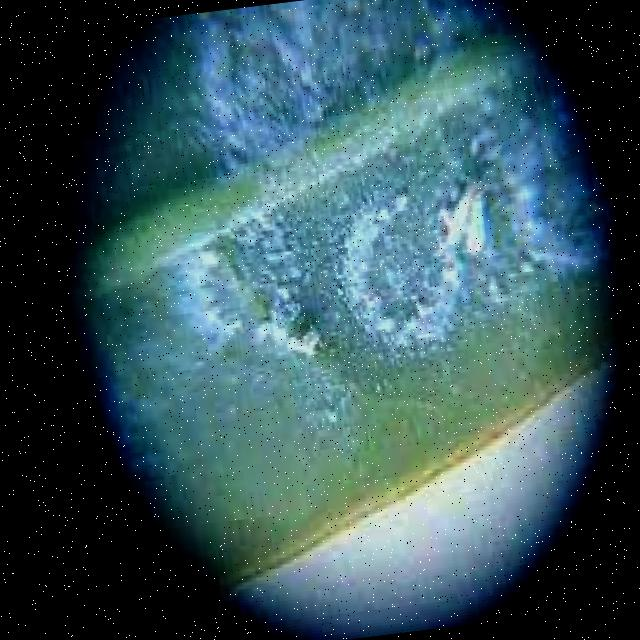whitefly: (75, 0, 589, 519)
